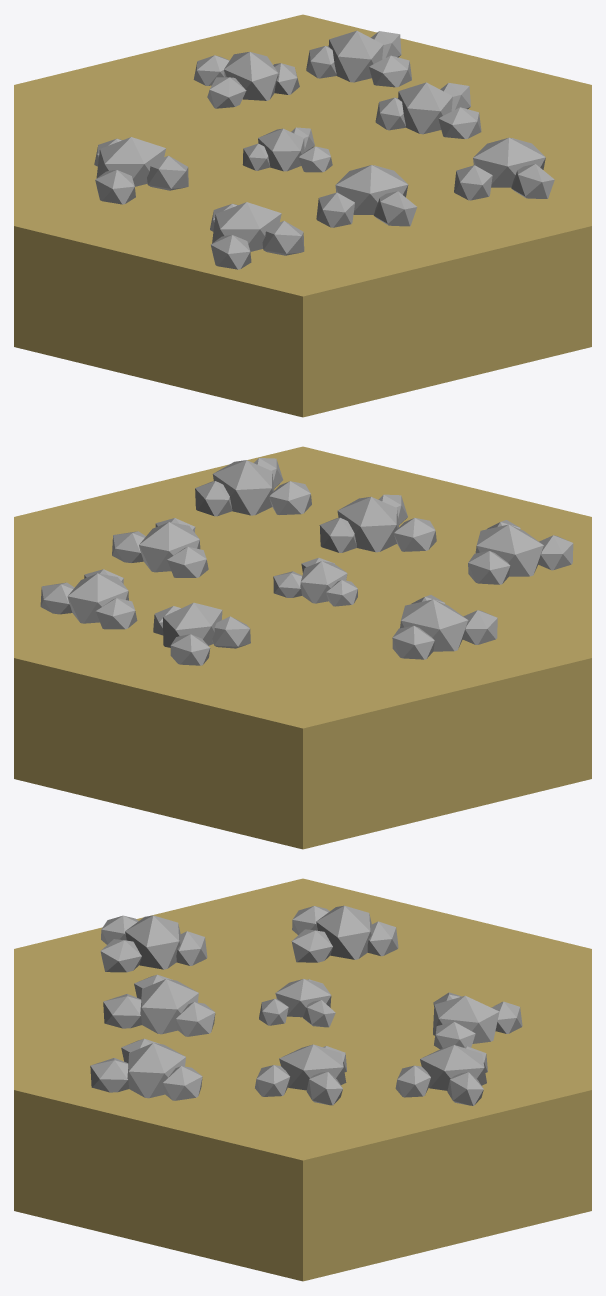
The model's file is Arido_Rocoso.fbx.
The picture shows the model from 3 angles, top to bottom: view 1: azimuth 30°, elevation 25°; view 2: azimuth 150°, elevation 25°; view 3: azimuth 270°, elevation 25°; orthographic projection.
Visible parts, largest first — view 1: Arido_Rocoso; view 2: Arido_Rocoso; view 3: Arido_Rocoso.
Part boxes in pixels (x1=…): Arido_Rocoso: x1=14, y1=14, x2=591, y2=417; Arido_Rocoso: x1=14, y1=446, x2=591, y2=849; Arido_Rocoso: x1=14, y1=878, x2=591, y2=1281.
Size of the model in its own units: 200 by 53.44 by 173.
